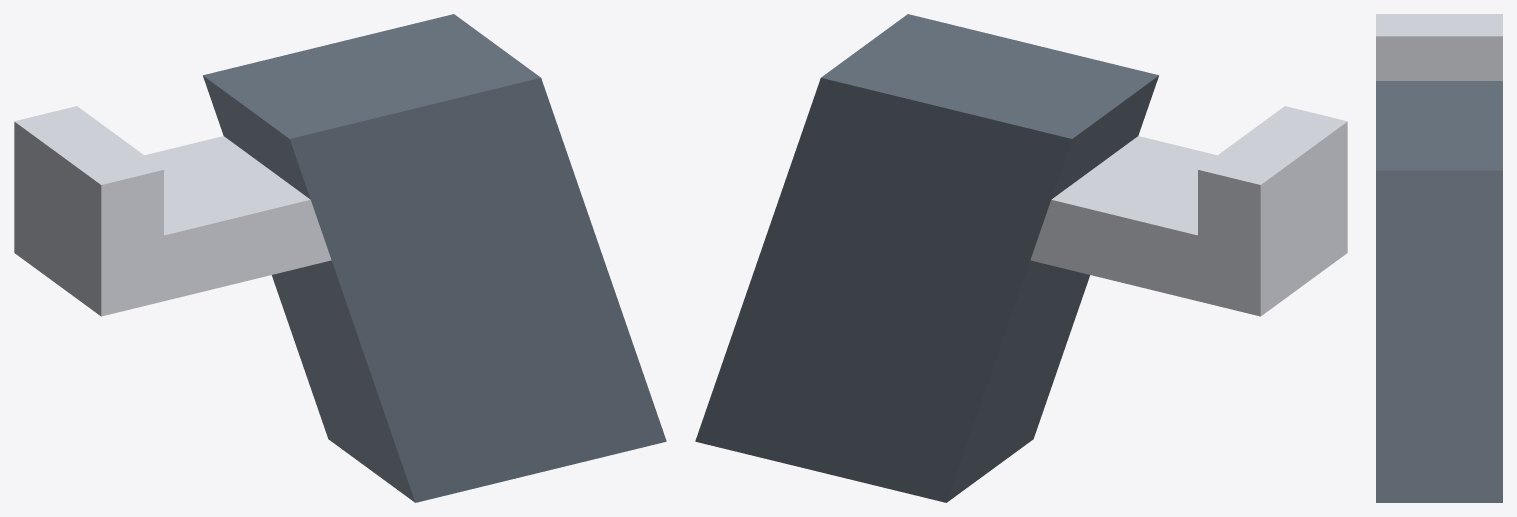
File: Grip_A.fbx
The picture shows the model from 3 angles, left to right: view 1: azimuth 30°, elevation 25°; view 2: azimuth 150°, elevation 25°; view 3: azimuth 270°, elevation 25°; orthographic projection. The views are drawn at different scales.
Parts seen in each view (by area): view 1: grip_a; view 2: grip_a; view 3: grip_a.
Boxes of the visible parts, left/top/right/bottom form: grip_a: left=14, top=14, right=666, bottom=502; grip_a: left=695, top=14, right=1347, bottom=502; grip_a: left=1376, top=14, right=1502, bottom=502.
Size of the model in its own units: 22.5 by 15 by 6.
